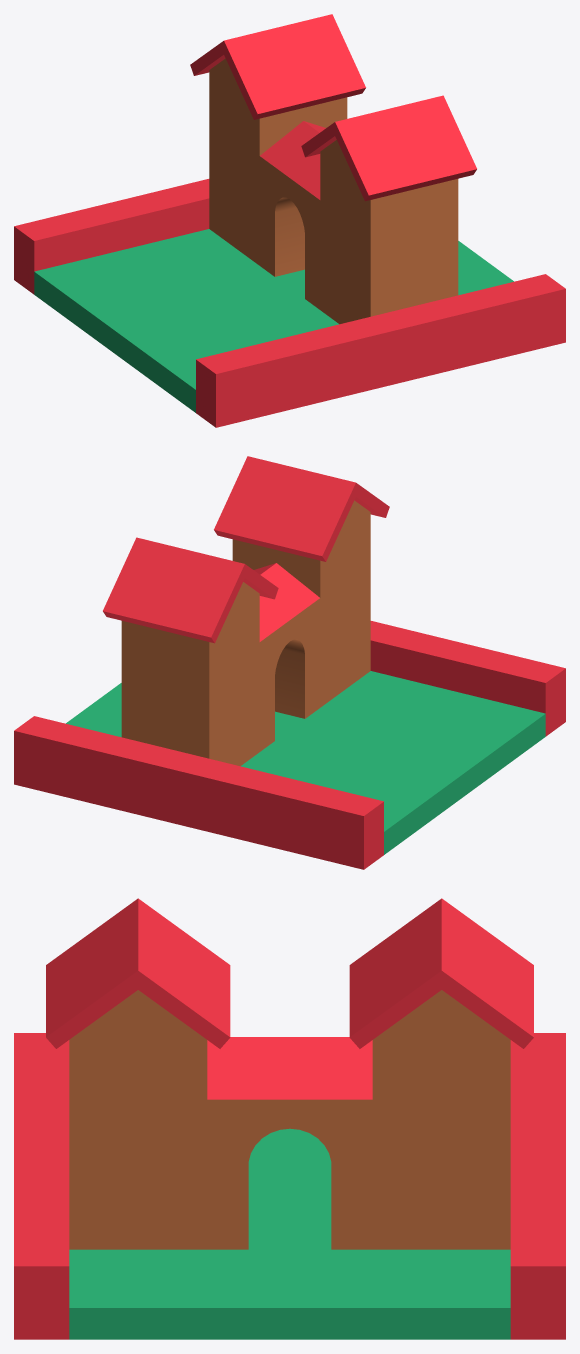
File: castle.obj
The picture shows the model from 3 angles, top to bottom: view 1: azimuth 30°, elevation 25°; view 2: azimuth 150°, elevation 25°; view 3: azimuth 270°, elevation 25°; orthographic projection. The views are drawn at different scales.
Parts seen in each view (by area): view 1: castle; view 2: castle; view 3: castle.
Boxes of the visible parts, left/top/right/bottom form: castle: left=14, top=14, right=565, bottom=427; castle: left=14, top=456, right=565, bottom=869; castle: left=14, top=898, right=565, bottom=1339.
Size of the model in its own units: 0.9999 by 0.635 by 0.9999.
